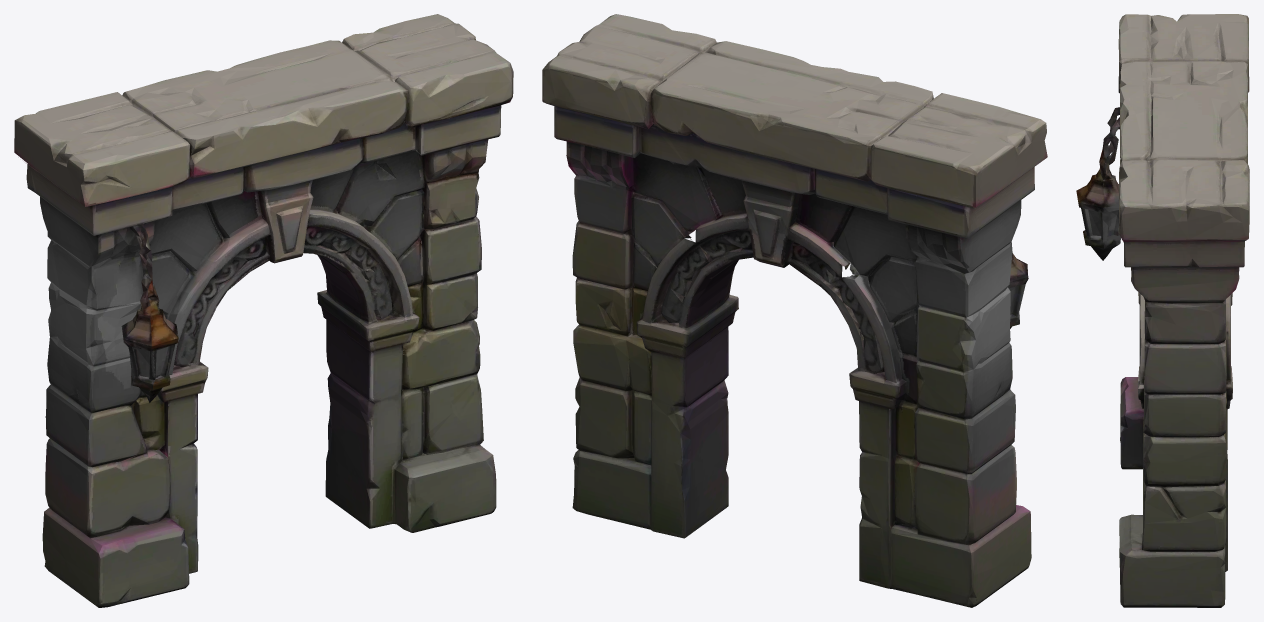
The model's file is stone_arch_gate.glb.
The picture shows the model from 3 angles, left to right: view 1: azimuth 30°, elevation 25°; view 2: azimuth 150°, elevation 25°; view 3: azimuth 270°, elevation 25°; orthographic projection. The views are drawn at different scales.
Size of the model in its own units: 1.97 by 1.96 by 0.7479.
1 material, 1 textured.
